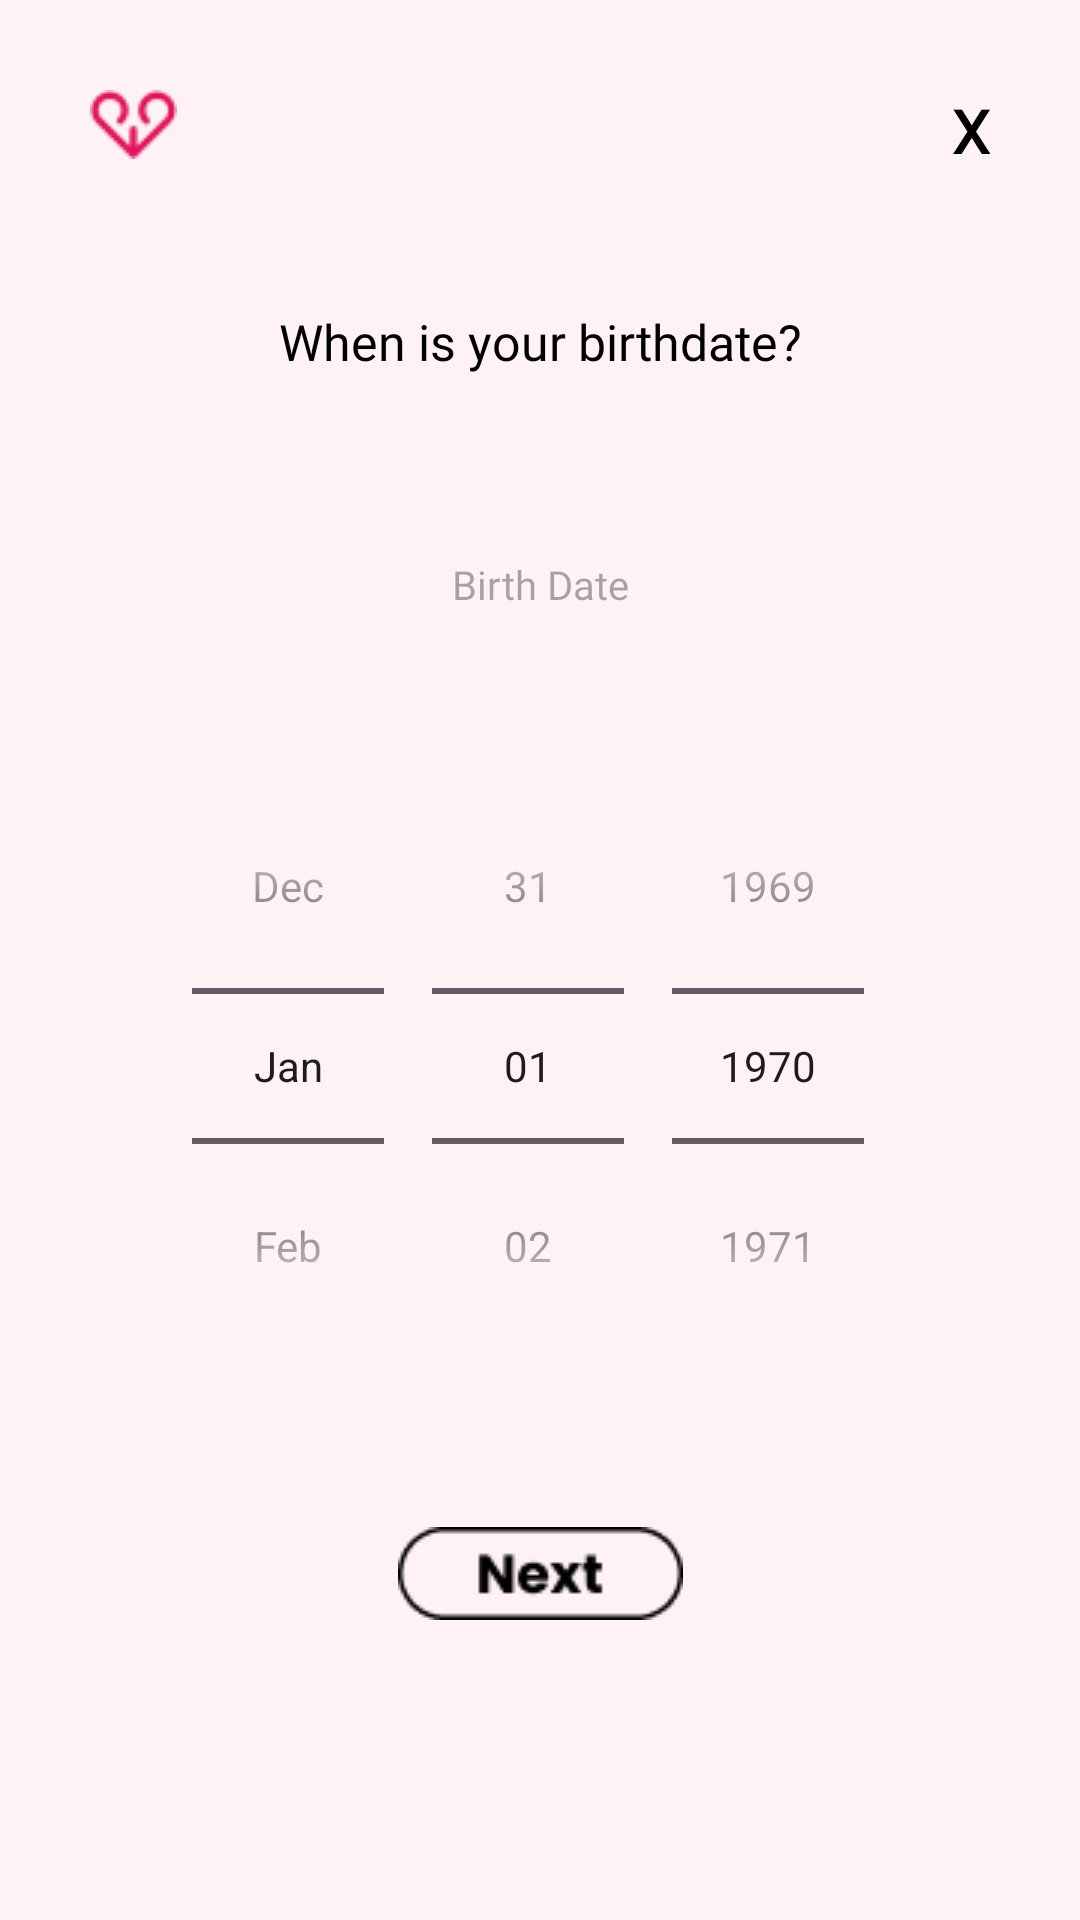

Icon bounding boxes for this 1080x1920 phone screenshot, format bbox=[x1, y1, x2, y2]:
mini heart: bbox=[90, 90, 177, 159]
